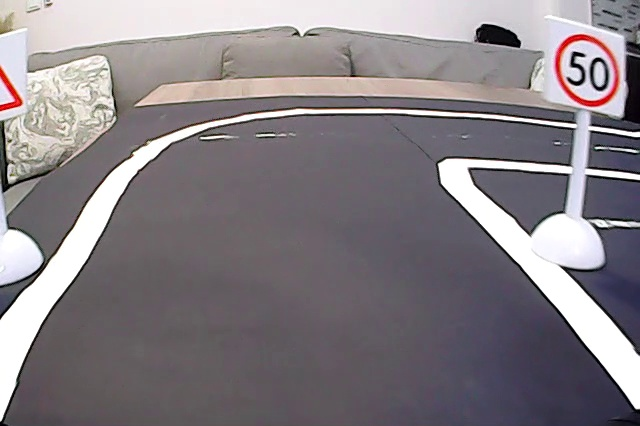speed limit 50: (550, 29, 622, 109)
